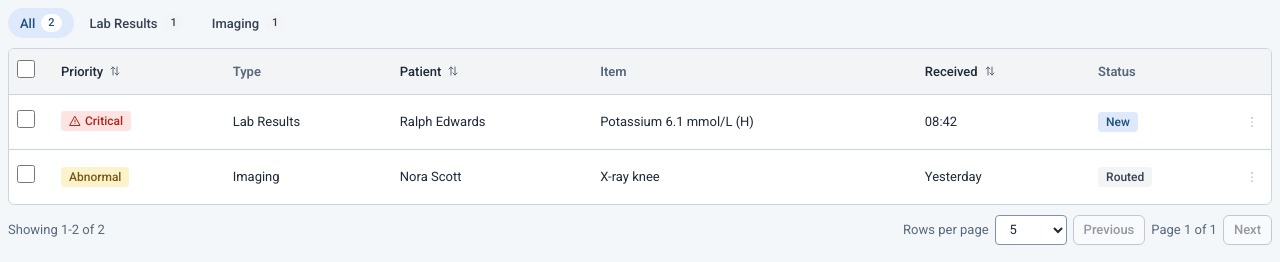
Scenario: InboxList › filters rows by type tab
Expected: the text "Nora Scott" is shown, [388,149,588,204]
Click the tab "Lab Results 1" at (137,23), box [78,8,196,38]
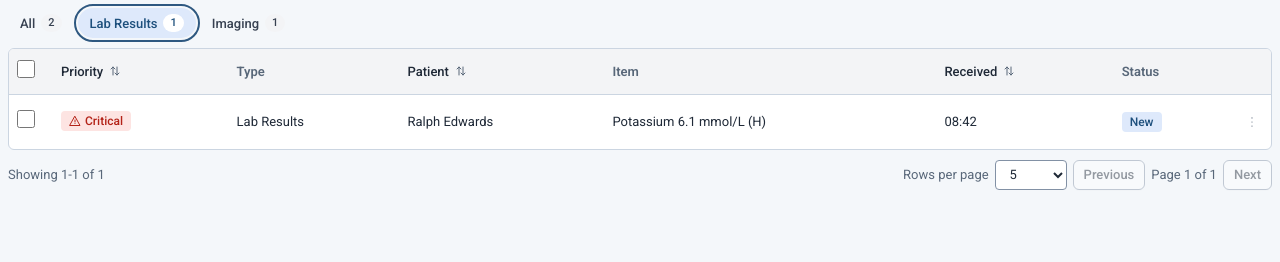
Expected: the text "Ralph Edwards" is shown, [396,94,600,148]
Expected: the text "Nora Scott" is gone
